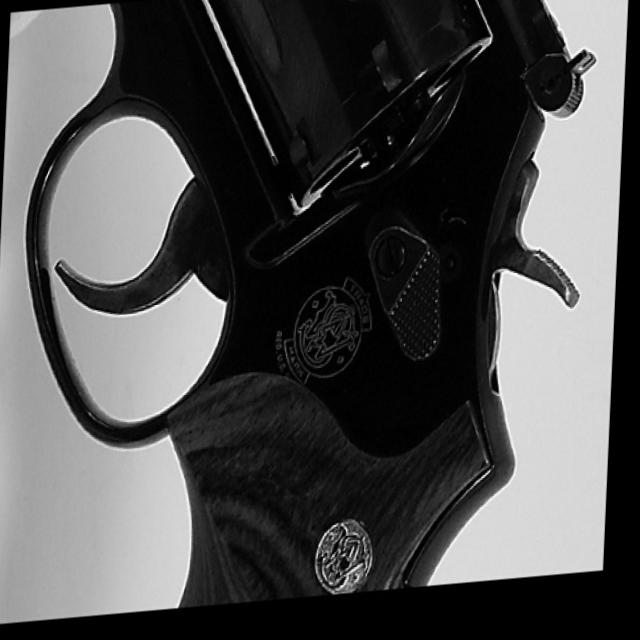handgun: (12, 0, 600, 626)
